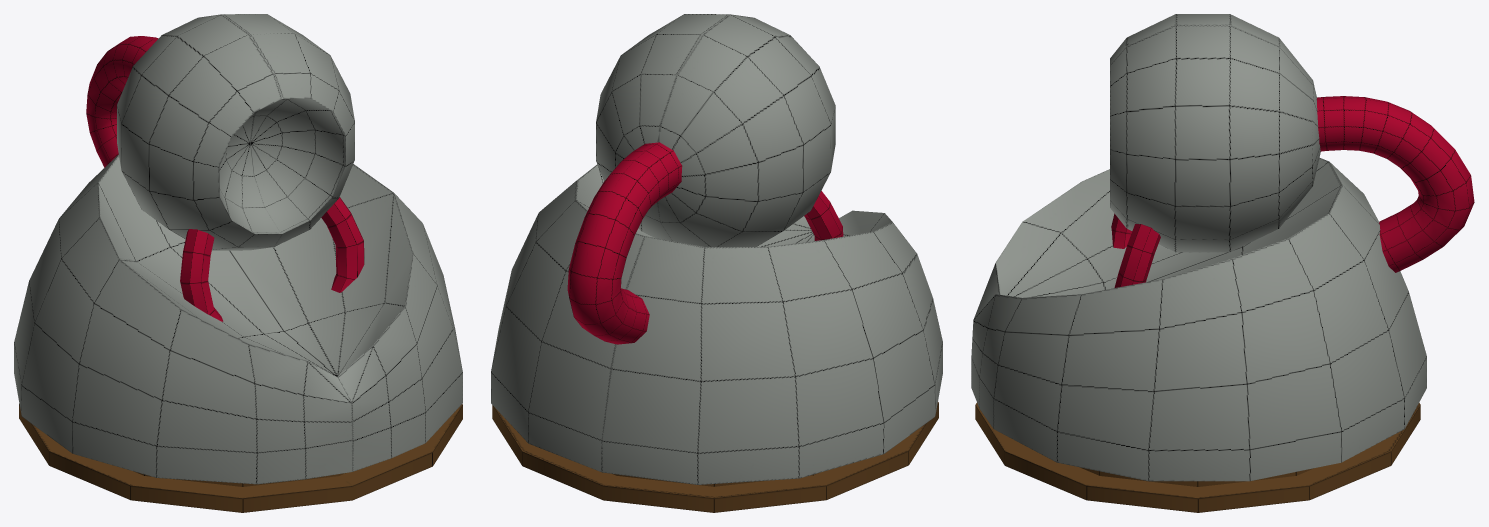
The model's file is WindtowerFBX.FBX.
3 renders of one model, left to right at view 1: azimuth 30°, elevation 25°; view 2: azimuth 150°, elevation 25°; view 3: azimuth 270°, elevation 25°, orthographic.
Parts seen in each view (by area): view 1: Sphere004; view 2: Sphere004; view 3: Sphere004.
Boxes of the visible parts, x1,y1,x2,y2 form: Sphere004: [14, 14, 462, 512]; Sphere004: [491, 14, 942, 512]; Sphere004: [971, 14, 1474, 512].
Bounding box in the file's own units: 164 × 160 × 186.
